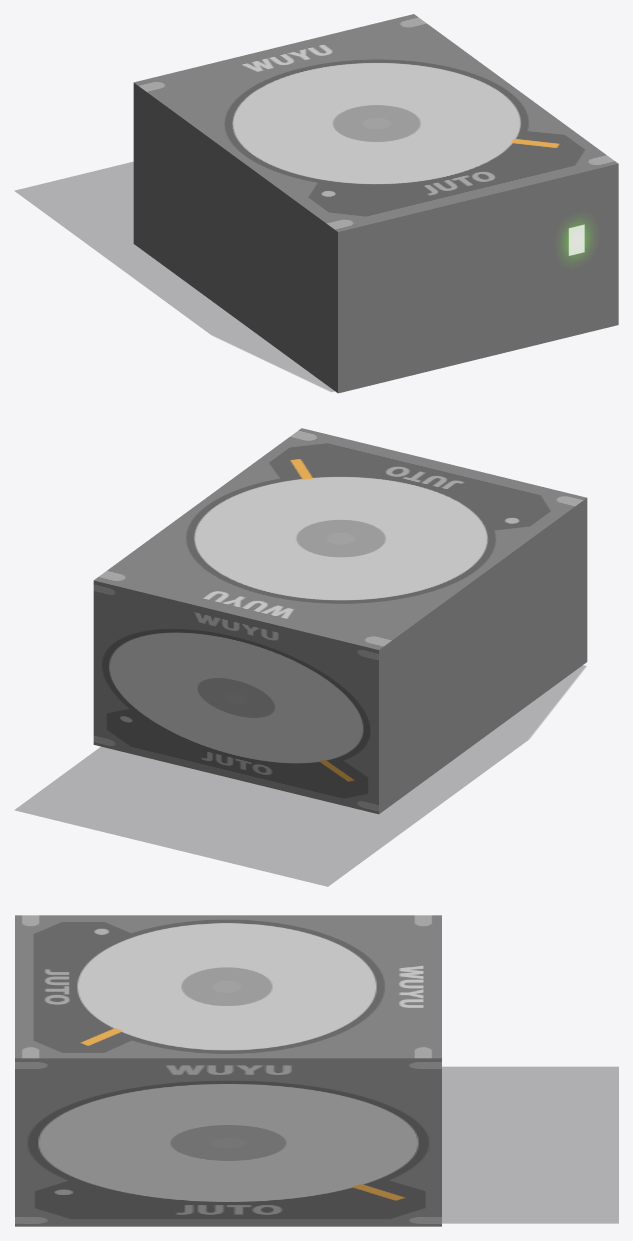
The model's file is block_20.glb.
3 views of the same model, one above another, from view 1: azimuth 30°, elevation 25°; view 2: azimuth 150°, elevation 25°; view 3: azimuth 270°, elevation 25° (orthographic). The views are drawn at different scales.
Visible parts, largest first — view 1: hitObj, block, Object3D; view 2: hitObj, block; view 3: hitObj, block.
Part boxes in pixels (x1,y1,x2,y2): hitObj: (133,14,618,393); block: (15,162,334,391); Object3D: (561,219,592,260); hitObj: (93,428,587,814); block: (15,665,585,886); hitObj: (15,915,441,1226); block: (442,1067,618,1223).
Size of the model in its own units: 11.24 by 5.52 by 17.9.
Materials: 4 (4 with a texture image).
